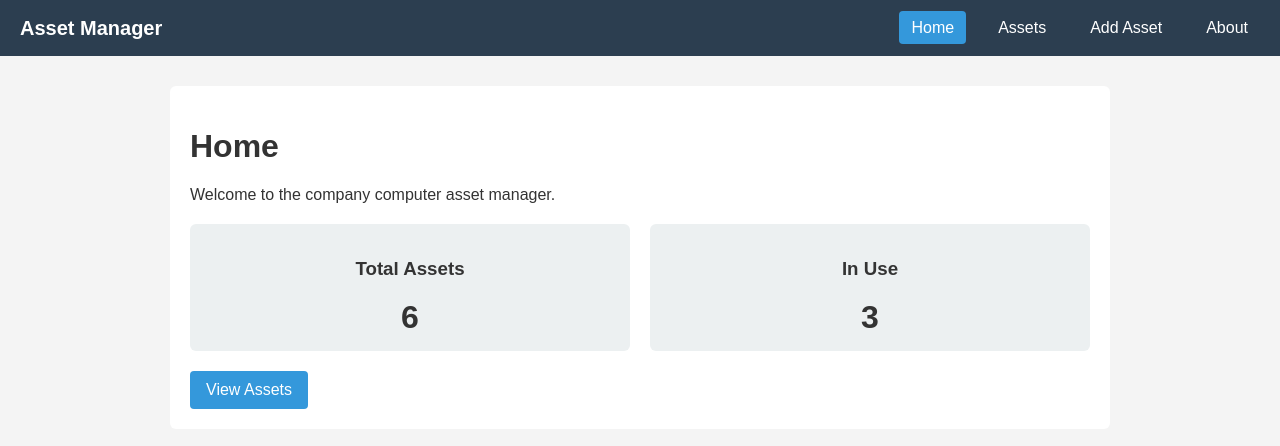
Test: Add Asset rejects empty required fields
Step 1. Click the link "Add Asset" → (1126, 28), box [1090,19,1162,36]
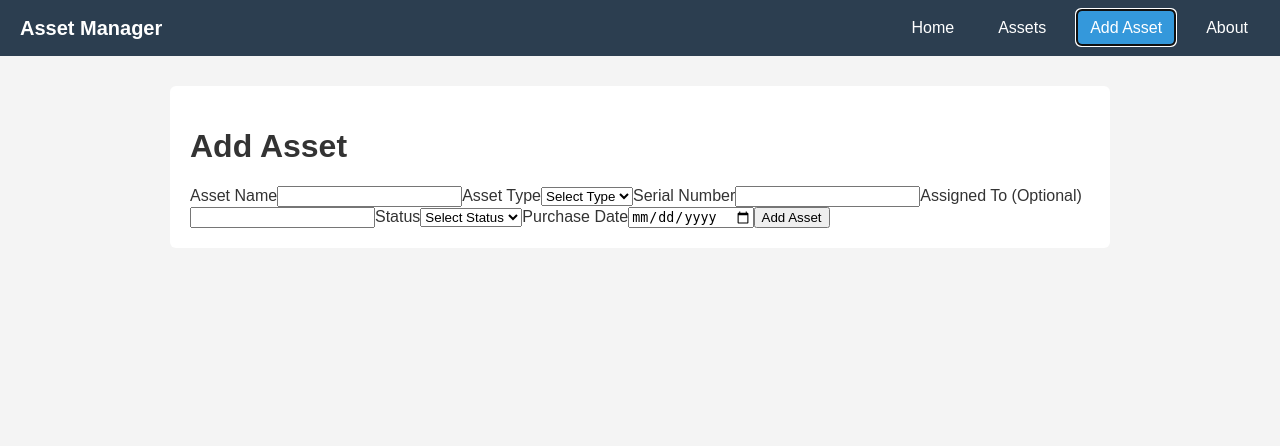
Step 2. Click the button "Add Asset" → (792, 218), box [754,207,830,228]
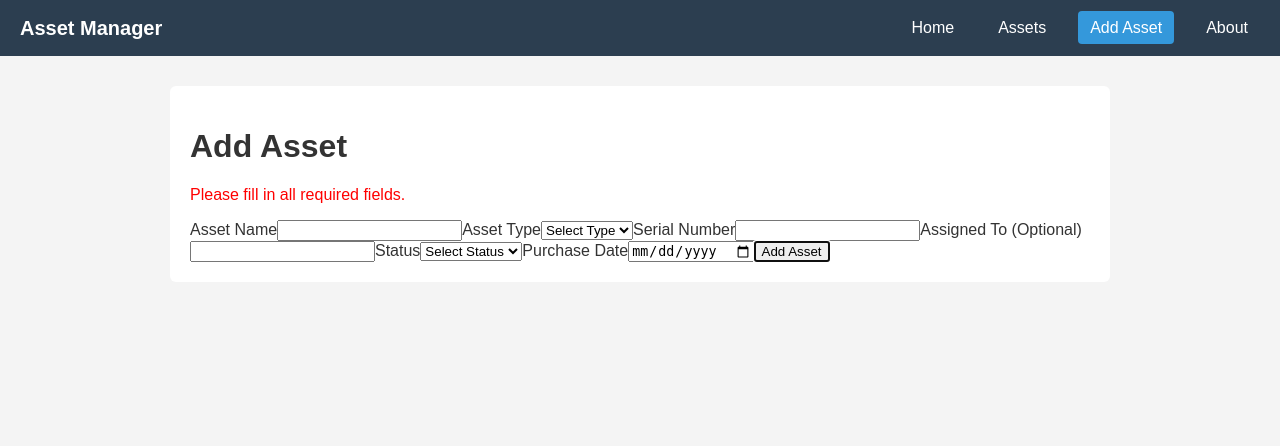
Result: the message reads "Please fill in all required fields." at [190,186,405,203]
